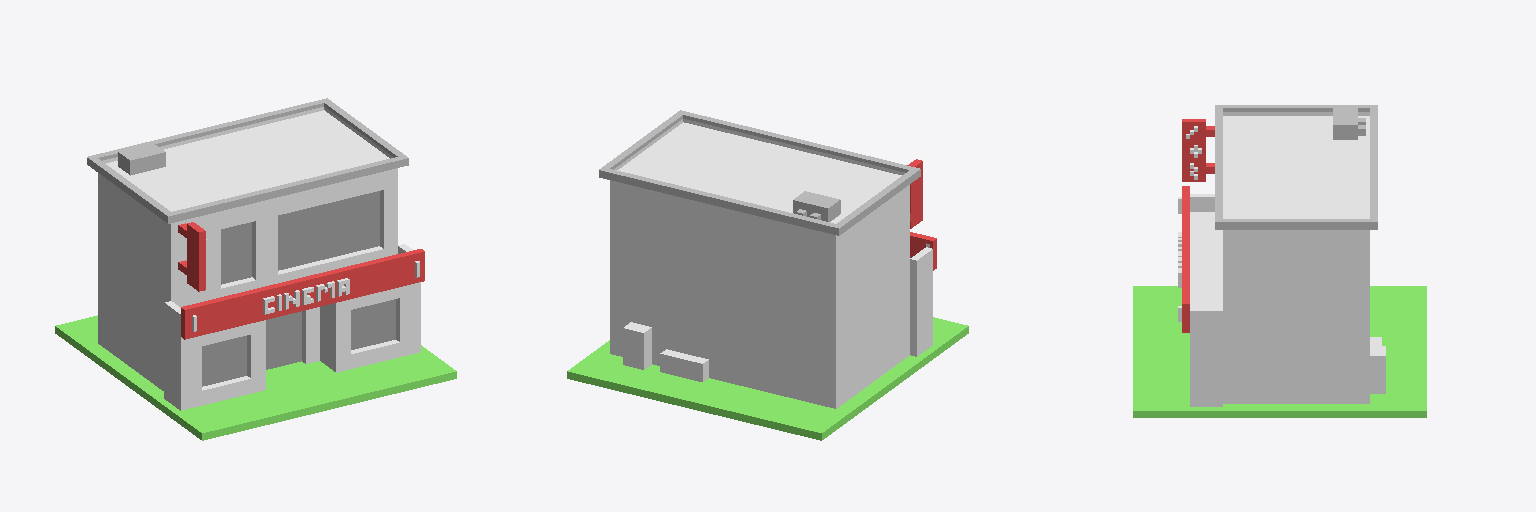
3 renders of one model, left to right at view 1: azimuth 30°, elevation 25°; view 2: azimuth 150°, elevation 25°; view 3: azimuth 270°, elevation 25°, orthographic.
Parts seen in each view (by area): view 1: object 1; view 2: object 1; view 3: object 1.
Part boxes in pixels (x1,y1,x2,y2): object 1: (55, 98, 456, 440); object 1: (567, 110, 968, 440); object 1: (1133, 105, 1426, 417).
Size of the model in its own units: 7.2 by 5.4 by 7.2.
Materials: 1 (1 with a texture image).